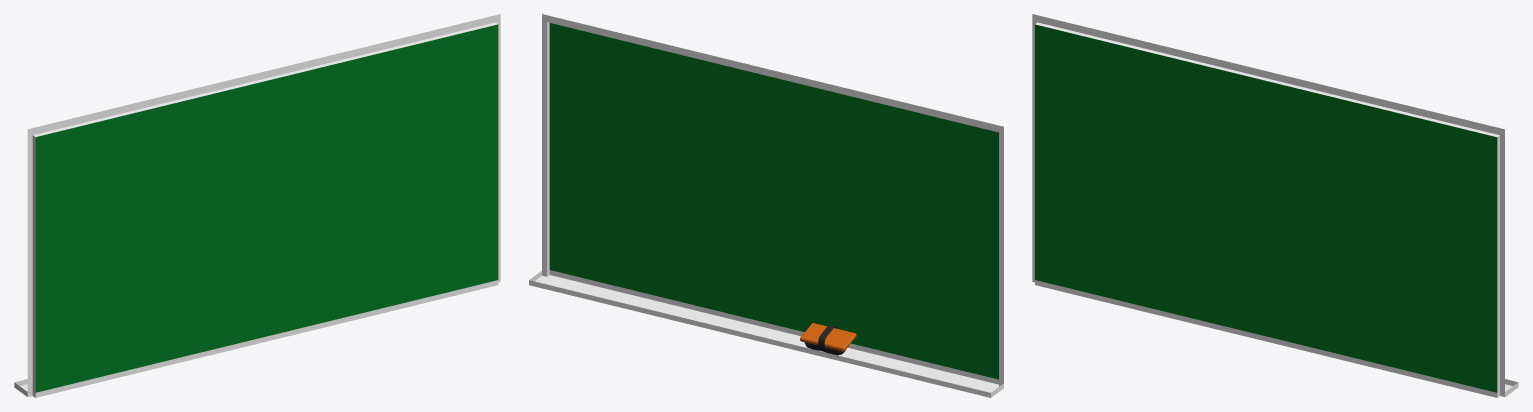
File: blackboard_back.glb
3 renders of one model, left to right at view 1: azimuth 30°, elevation 25°; view 2: azimuth 150°, elevation 25°; view 3: azimuth 330°, elevation 25°, orthographic. The views are drawn at different scales.
Parts seen in each view (by area): view 1: blackboard.002; view 2: blackboard.002, black_board_creaner.003; view 3: blackboard.002.
Part boxes in pixels (x1,y1,x2,y2): blackboard.002: [14, 14, 500, 397]; blackboard.002: [529, 14, 1003, 397]; black_board_creaner.003: [800, 323, 856, 355]; blackboard.002: [1032, 14, 1518, 397].
Size of the model in its own units: 5.28 by 2.86 by 0.3129.
